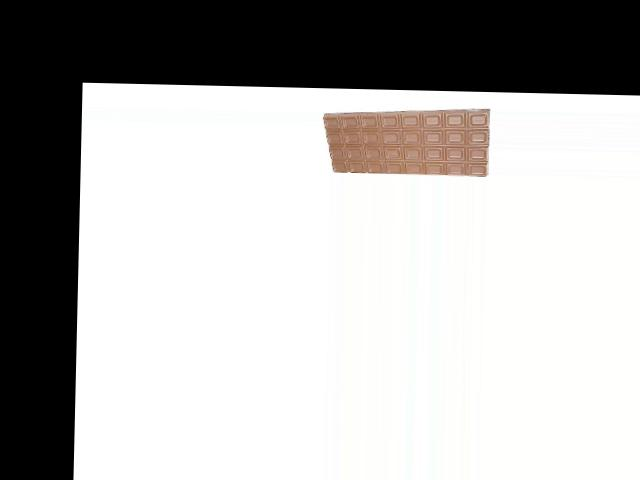chocolate: (319, 107, 491, 176)
